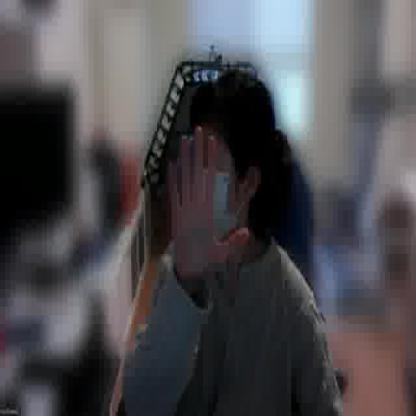five: (166, 125, 250, 287)
